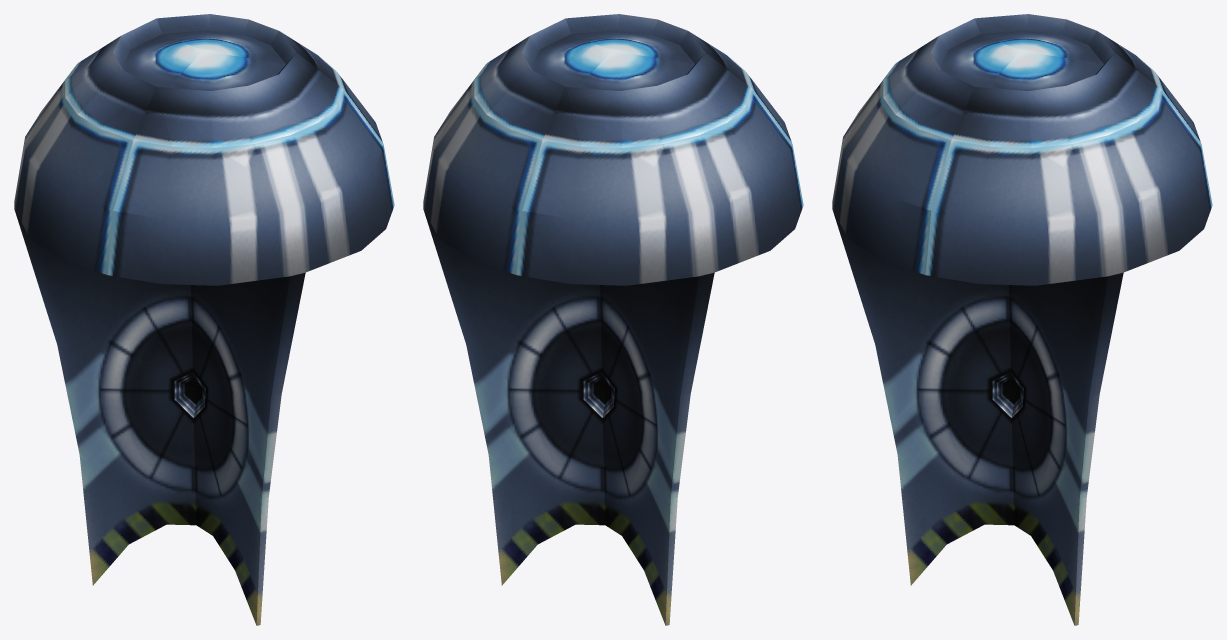
Rendered from mine3.fbx.
3 views of the same model, side by side, from view 1: azimuth 30°, elevation 25°; view 2: azimuth 150°, elevation 25°; view 3: azimuth 270°, elevation 25° (orthographic).
Visible parts, largest first — view 1: Mine3; view 2: Mine3; view 3: Mine3.
Boxes of the visible parts, <box> form: Mine3: <box>14,14,394,625</box>; Mine3: <box>423,14,803,625</box>; Mine3: <box>832,14,1212,625</box>.
Size of the model in its own units: 333 by 515 by 333.
